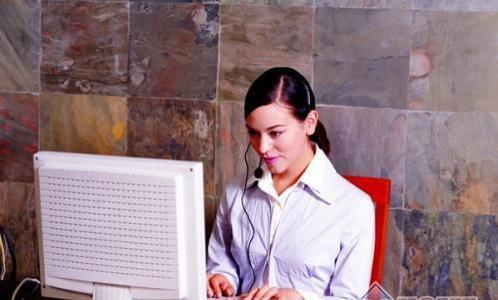person: (207, 68, 376, 300)
